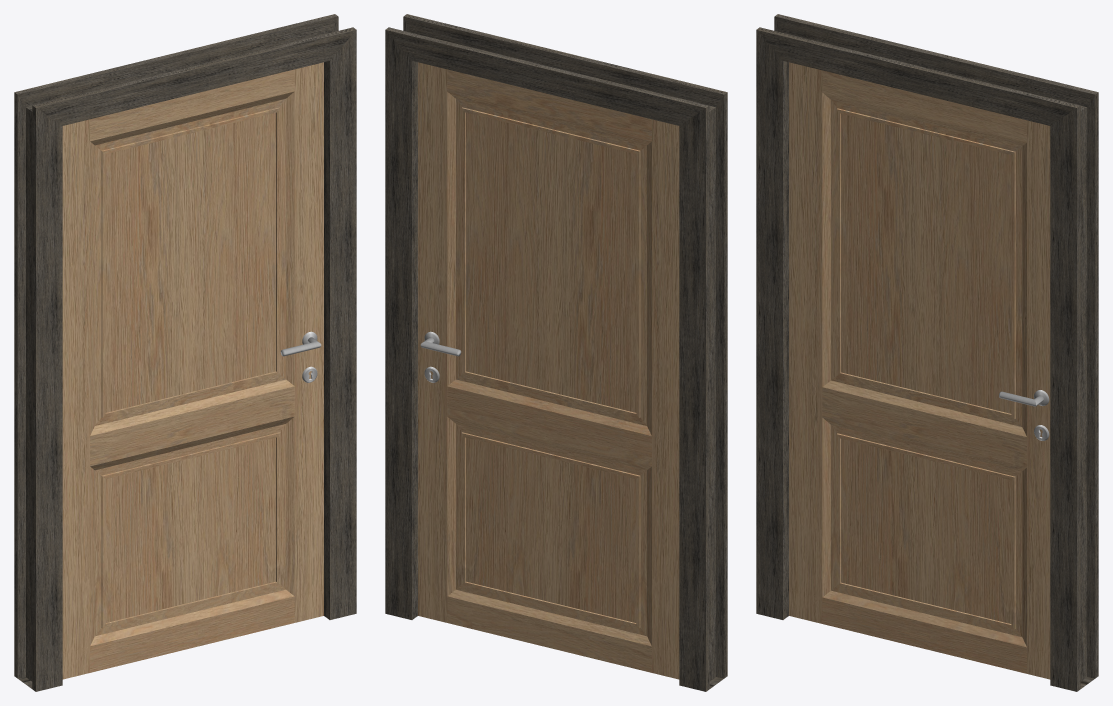
3 views of the same model, side by side, from view 1: azimuth 30°, elevation 25°; view 2: azimuth 150°, elevation 25°; view 3: azimuth 330°, elevation 25° (orthographic).
Parts seen in each view (by area): view 1: Door1, Frame, Lock; view 2: Door1, Frame, Lock; view 3: Door1, Frame, Lock.
Boxes of the visible parts, bbox=[...] form: Door1: bbox=[62, 62, 323, 679]; Frame: bbox=[14, 14, 356, 691]; Lock: bbox=[280, 331, 321, 382]; Door1: bbox=[418, 62, 679, 679]; Frame: bbox=[385, 14, 727, 691]; Lock: bbox=[420, 331, 461, 382]; Door1: bbox=[789, 62, 1050, 679]; Frame: bbox=[756, 14, 1098, 691]; Lock: bbox=[999, 390, 1049, 440].
Size of the model in its own units: 1.26 by 2.2 by 0.1866.
3 materials, 3 textured.
